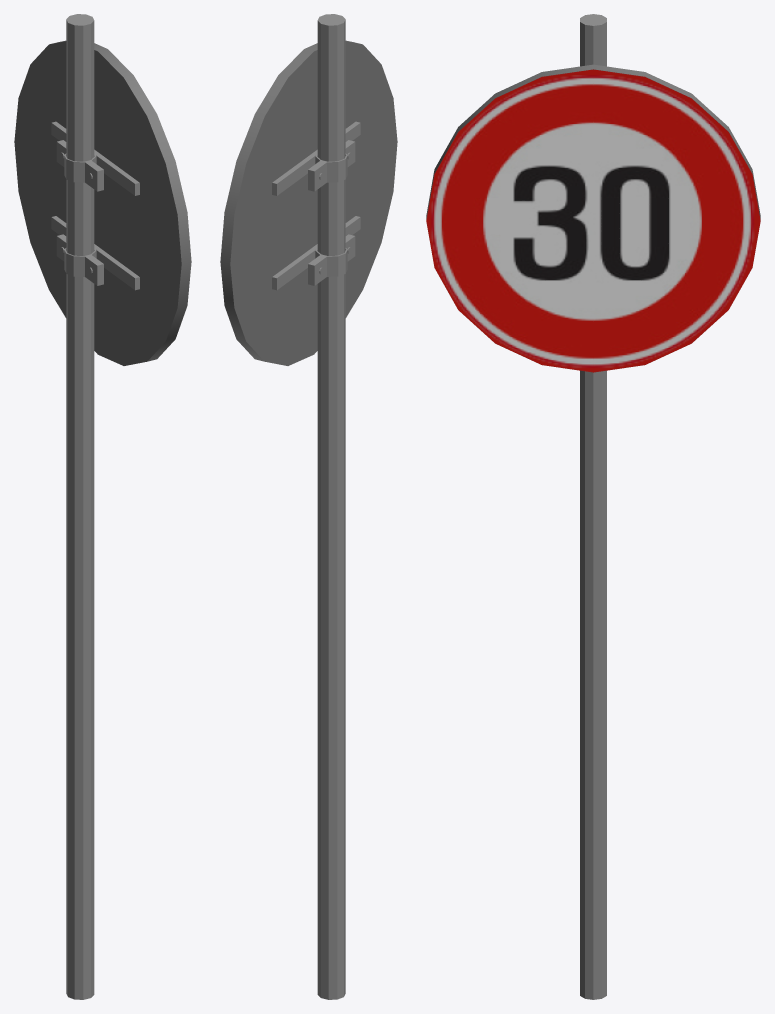
Rendered from obj_sign_3.fbx.
The picture shows the model from 3 angles, left to right: view 1: azimuth 30°, elevation 25°; view 2: azimuth 150°, elevation 25°; view 3: azimuth 270°, elevation 25°; orthographic projection.
Visible parts, largest first — view 1: obj_sign_3; view 2: obj_sign_3; view 3: obj_sign_3.
Part boxes in pixels (x1,y1,x2,y2): obj_sign_3: (14,14,191,999); obj_sign_3: (220,14,397,999); obj_sign_3: (426,14,760,999).
Bounding box in the file's own units: 0.1068 × 2.39 × 0.7434.
Materials: 1 (1 with a texture image).
